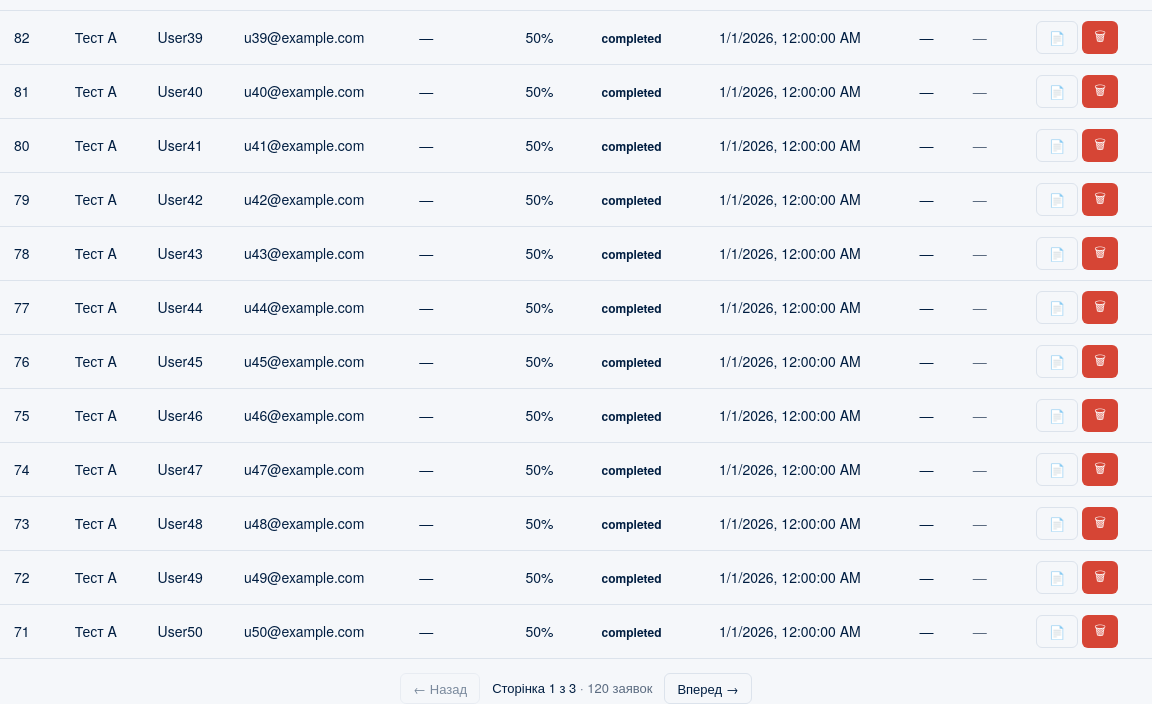
Test: AdminSubmissions — page controls › shows "page X of Y" and moves forward, writing the page into the URL
(page scrolled)
Expected: the text "Сторінка 1 з 3 · 120 заявок" is shown, [492,678,652,699]
What coordinates should you click on to do the following:
click the button "Вперед →"
I would click on:
 (708, 689)
Its box is [664,673,752,703].
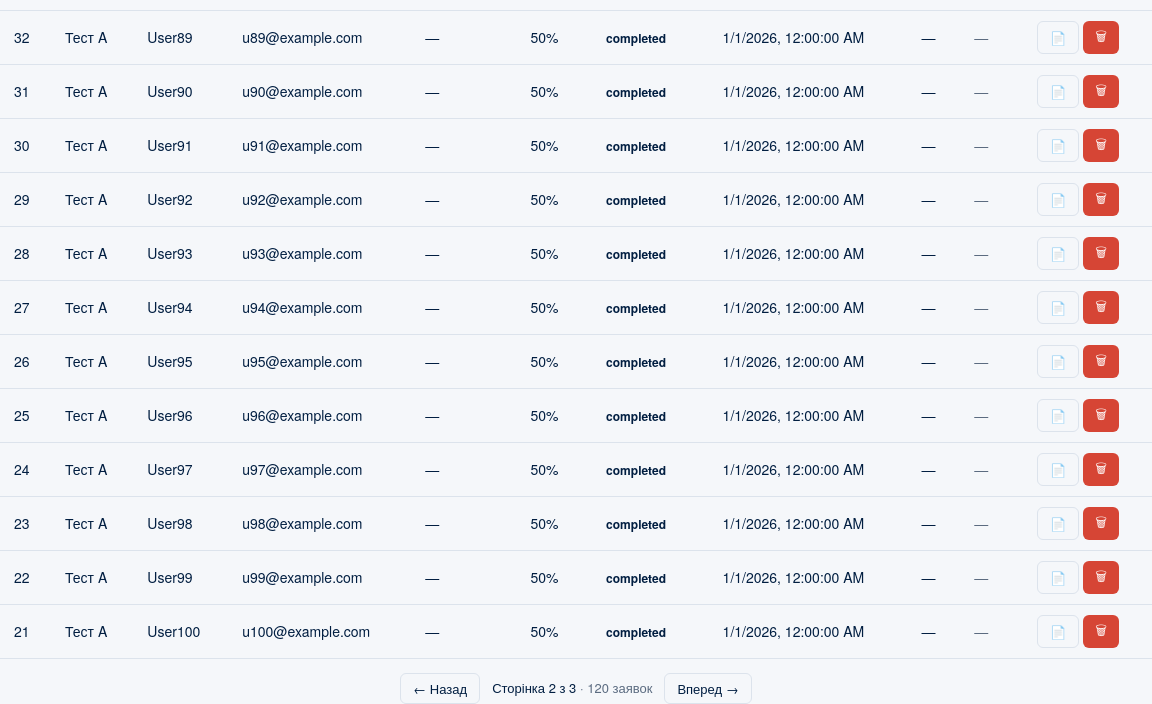
Expected: the text "Сторінка 2 з 3 · 120 заявок" is shown, [492,678,652,699]
